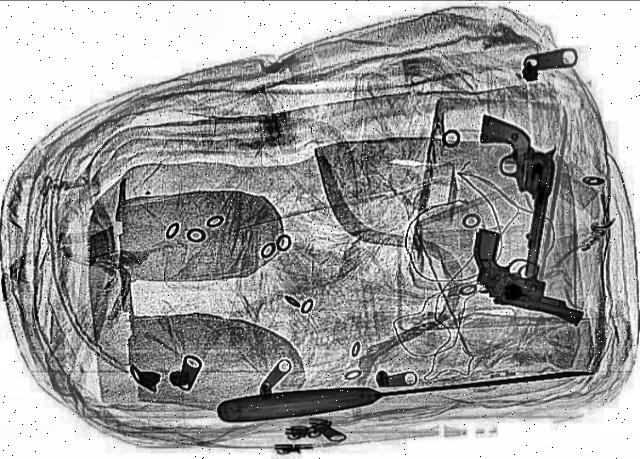Gun: (454, 113, 564, 277), (441, 225, 614, 323)
Knife: (214, 356, 596, 424)
